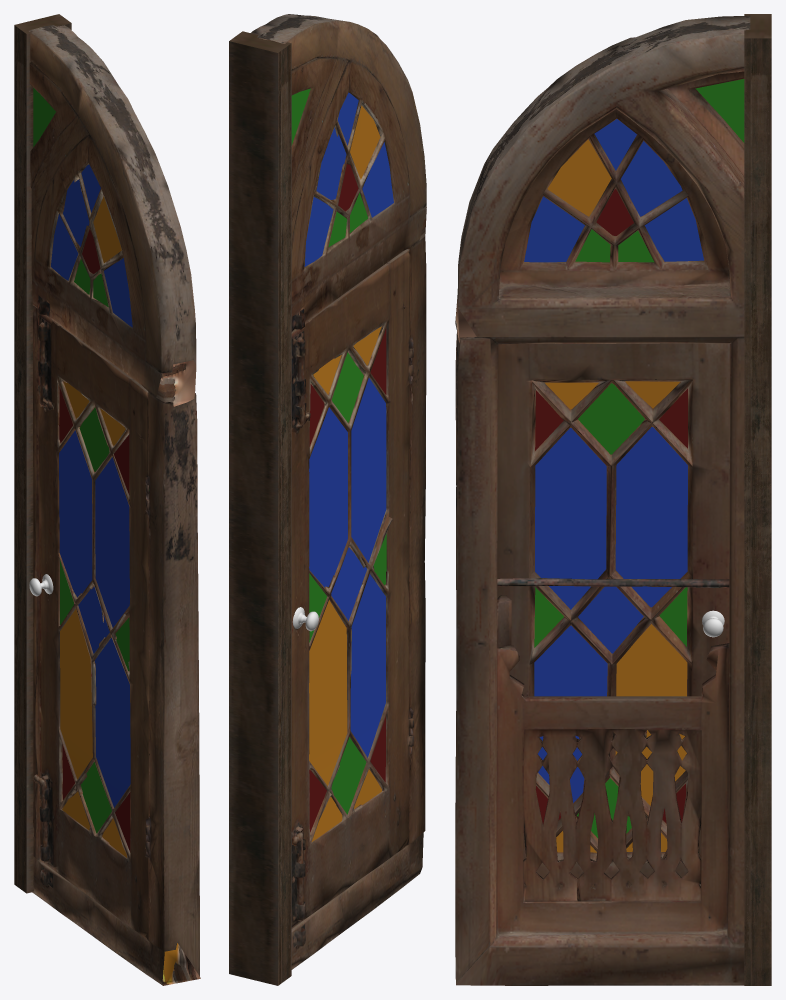
File: E_Door_Left.fbx
The picture shows the model from 3 angles, left to right: view 1: azimuth 30°, elevation 25°; view 2: azimuth 150°, elevation 25°; view 3: azimuth 270°, elevation 25°; orthographic projection. The views are drawn at different scales.
Parts seen in each view (by area): view 1: SM_EntranceDoor_Left2_LOD0; view 2: SM_EntranceDoor_Left2_LOD0; view 3: SM_EntranceDoor_Left2_LOD0.
Part boxes in pixels (x1=…): SM_EntranceDoor_Left2_LOD0: x1=14, y1=14, x2=200, y2=985; SM_EntranceDoor_Left2_LOD0: x1=229, y1=14, x2=426, y2=985; SM_EntranceDoor_Left2_LOD0: x1=455, y1=14, x2=771, y2=985.
Size of the model in its own units: 30.93 by 475 by 143.
